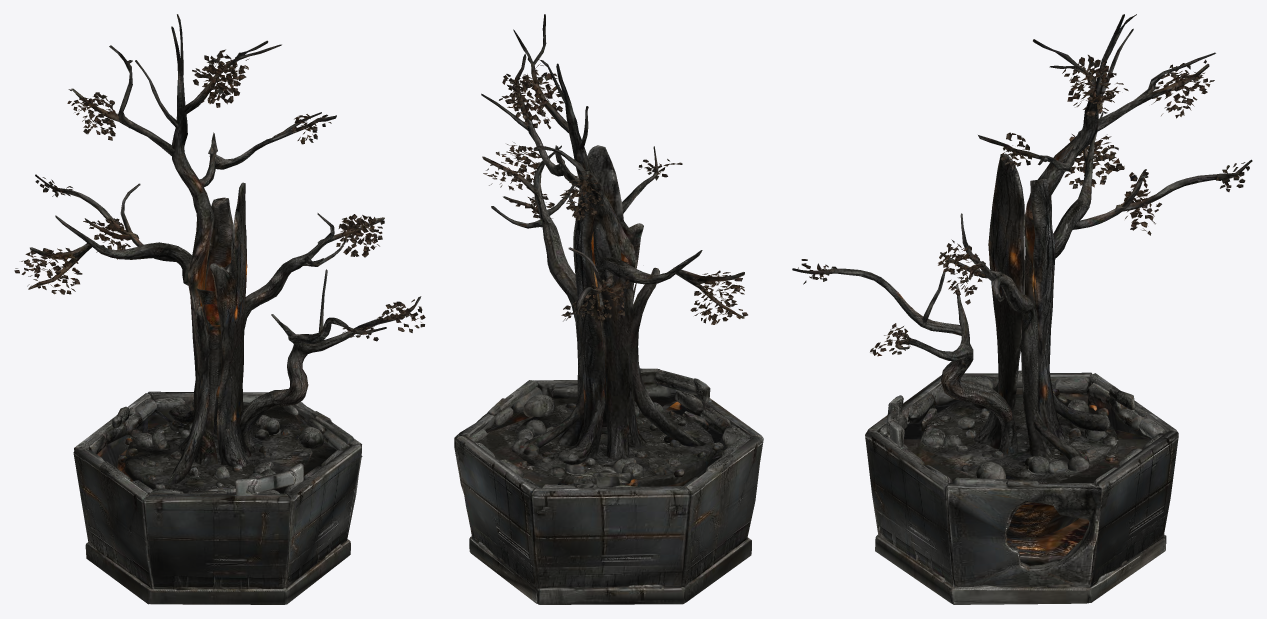
The model's file is burned-cyber-tree.glb.
3 renders of one model, left to right at view 1: azimuth 30°, elevation 25°; view 2: azimuth 150°, elevation 25°; view 3: azimuth 270°, elevation 25°, orthographic. The views are drawn at different scales.
Visible parts, largest first — view 1: Mesh_0; view 2: Mesh_0; view 3: Mesh_0.
Boxes of the visible parts, x1,y1,x2,y2 form: Mesh_0: (14,14,425,604); Mesh_0: (454,14,763,604); Mesh_0: (792,14,1252,604).
Size of the model in its own units: 0.3938 by 0.6 by 0.4605.
1 material, 1 textured.
